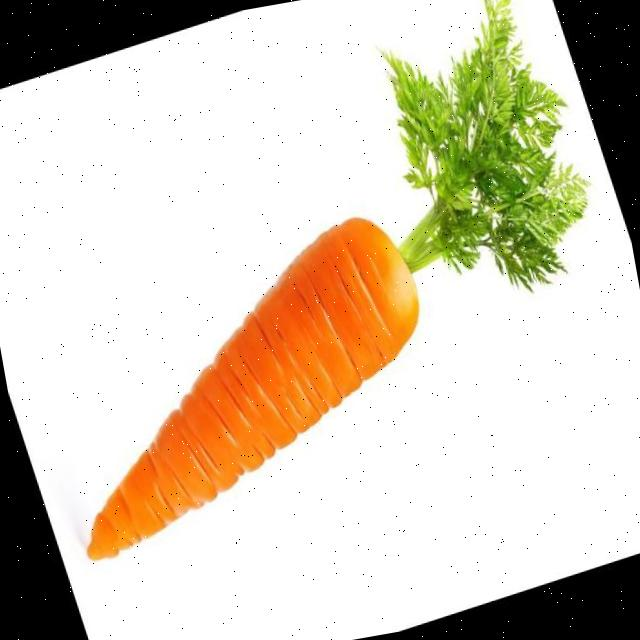carrot: (87, 0, 586, 559)
